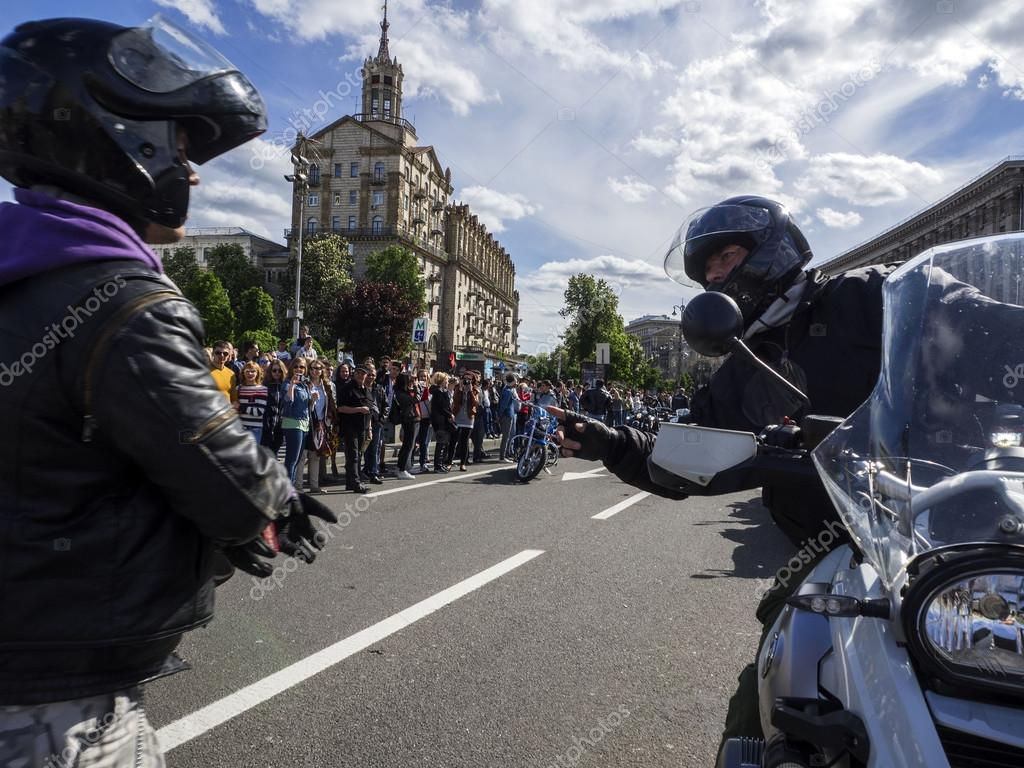helmet: (18, 24, 256, 225), (682, 196, 811, 324)
